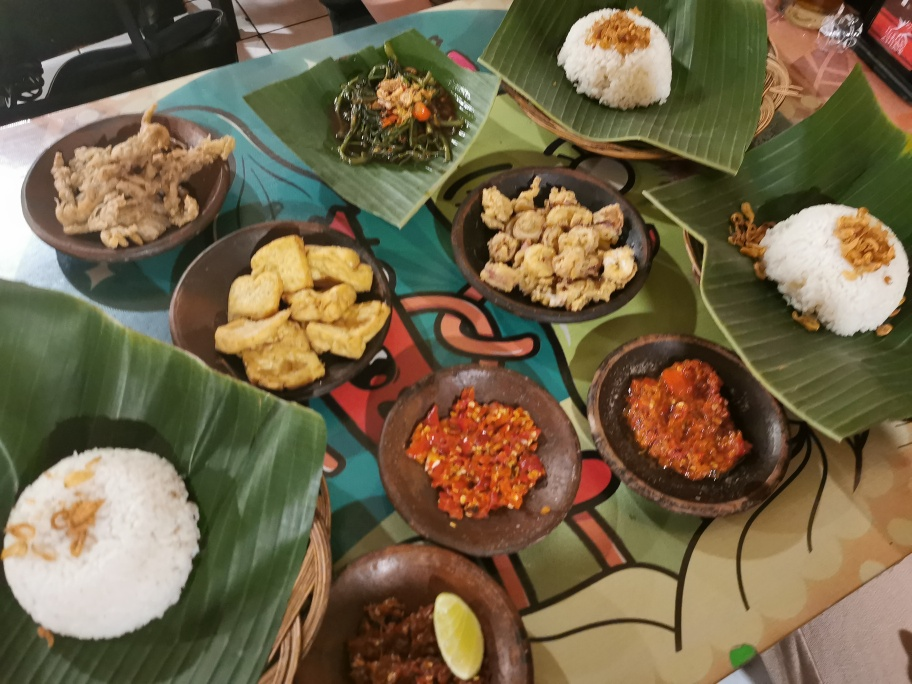nasi putih: (2, 442, 200, 637), (753, 200, 910, 337), (557, 6, 676, 108)
